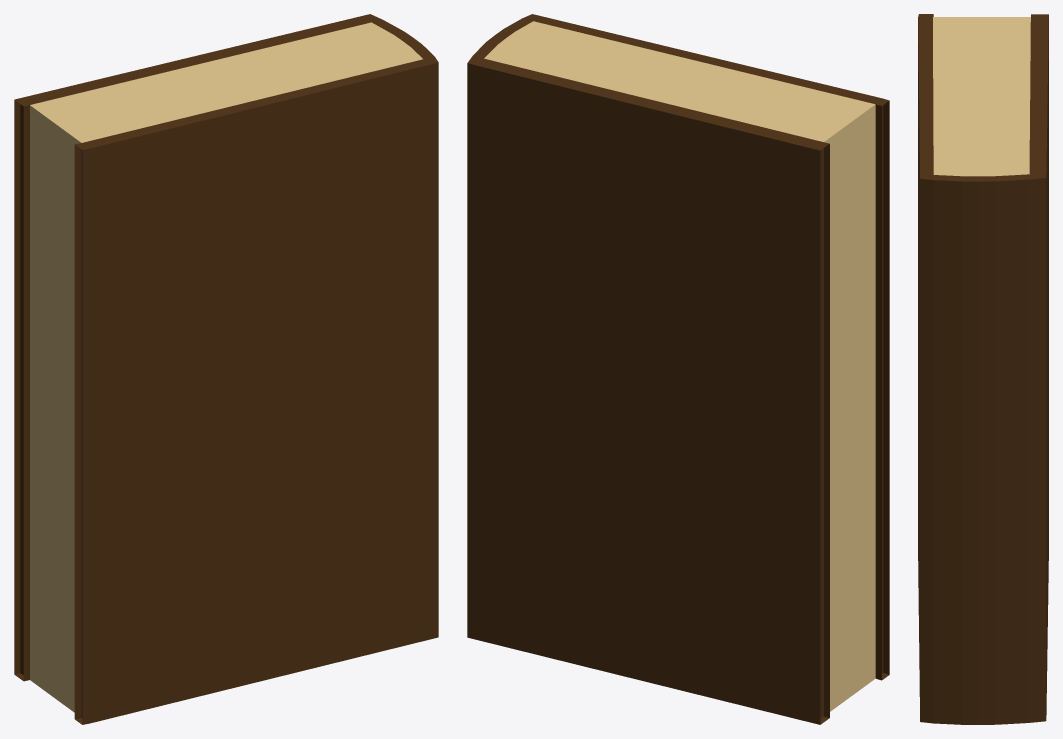
The model's file is Book.fbx.
The picture shows the model from 3 angles, left to right: view 1: azimuth 30°, elevation 25°; view 2: azimuth 150°, elevation 25°; view 3: azimuth 270°, elevation 25°; orthographic projection. The views are drawn at different scales.
Visible parts, largest first — view 1: Cube; view 2: Cube; view 3: Cube.
Part boxes in pixels (x1=…): Cube: x1=14, y1=14, x2=438, y2=724; Cube: x1=467, y1=14, x2=889, y2=724; Cube: x1=918, y1=14, x2=1048, y2=724.
Size of the model in its own units: 607 by 918 by 200.
